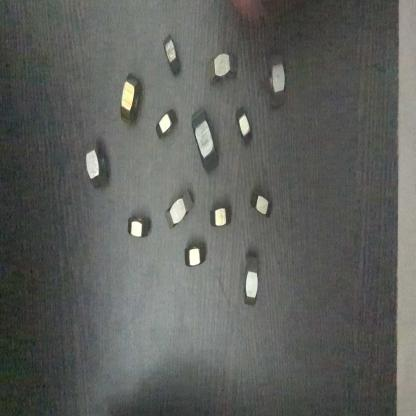NUTS: (116, 69, 154, 140), (188, 108, 222, 178), (262, 55, 288, 116), (83, 141, 111, 197), (166, 183, 194, 235), (123, 210, 163, 245), (208, 46, 239, 90), (160, 30, 184, 79), (242, 251, 262, 306), (180, 240, 211, 275), (154, 99, 177, 146), (204, 201, 233, 237), (250, 184, 275, 225), (232, 105, 253, 151)
